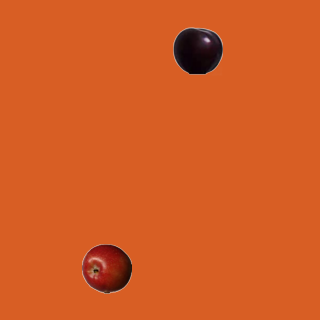Apple Braeburn: (81, 243, 131, 293)
Cherry Wax Black: (172, 25, 222, 75)
